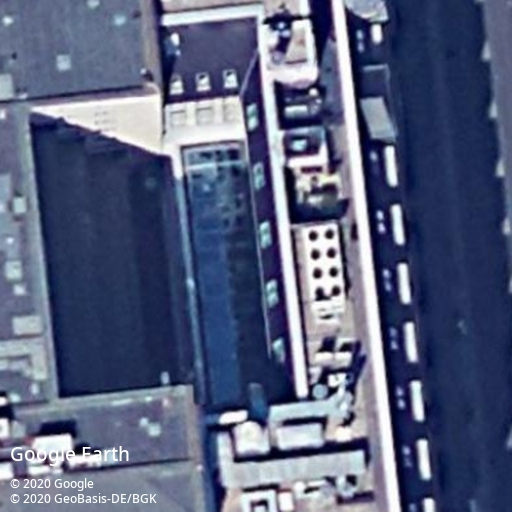Chiller: (300, 223, 347, 310)
